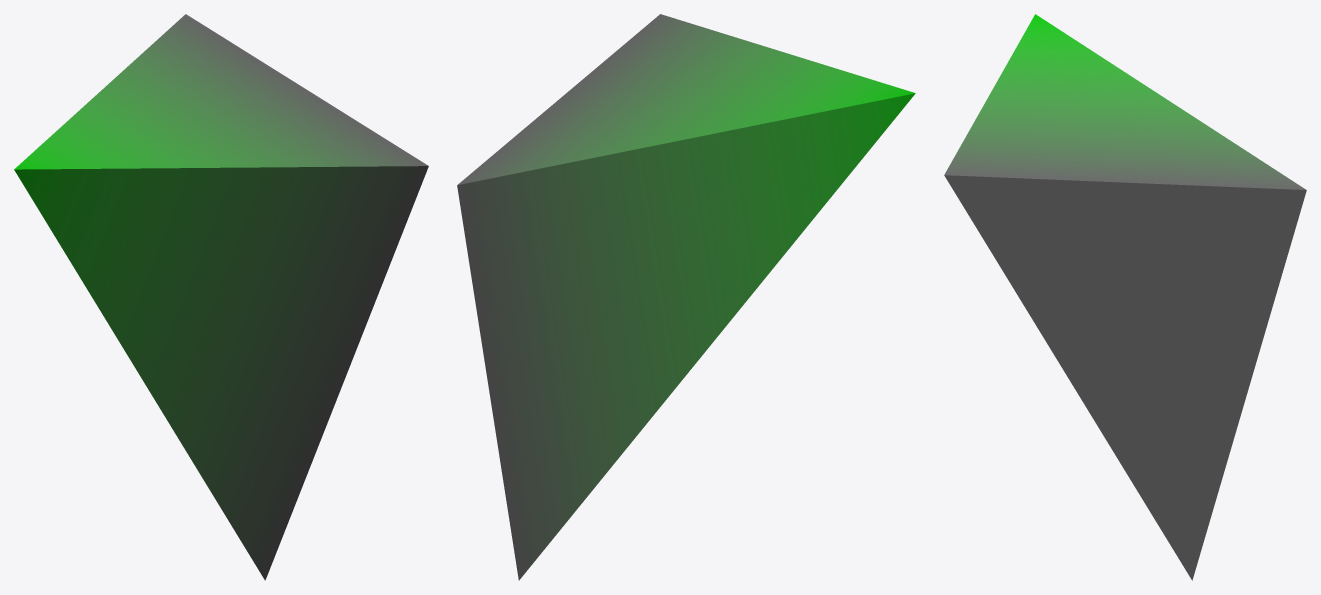
The model's file is DecimateAB_fandisk.obj.
3 renders of one model, left to right at view 1: azimuth 30°, elevation 25°; view 2: azimuth 150°, elevation 25°; view 3: azimuth 270°, elevation 25°, orthographic. The views are drawn at different scales.
Size of the model in its own units: 0.3469 by 0.5359 by 0.4045.
